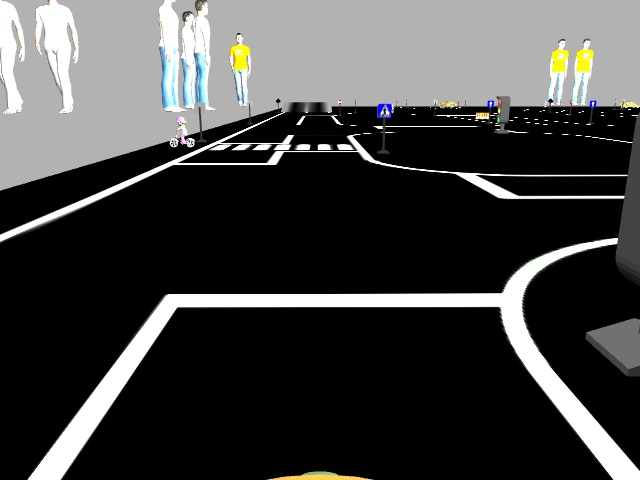Crosswalk: (377, 105, 390, 119)
Pedestrian: (169, 116, 195, 146)
